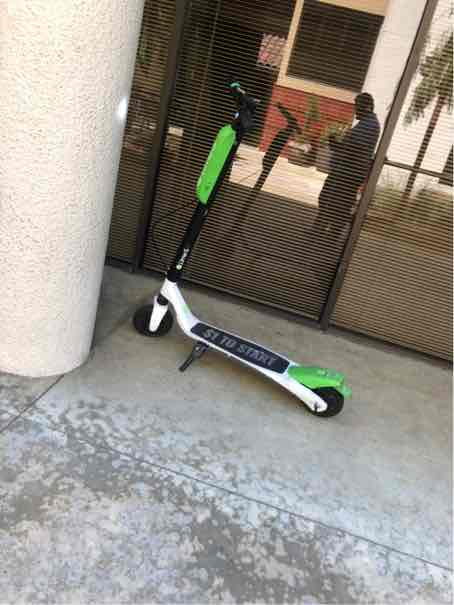scooter: (134, 63, 357, 417)
